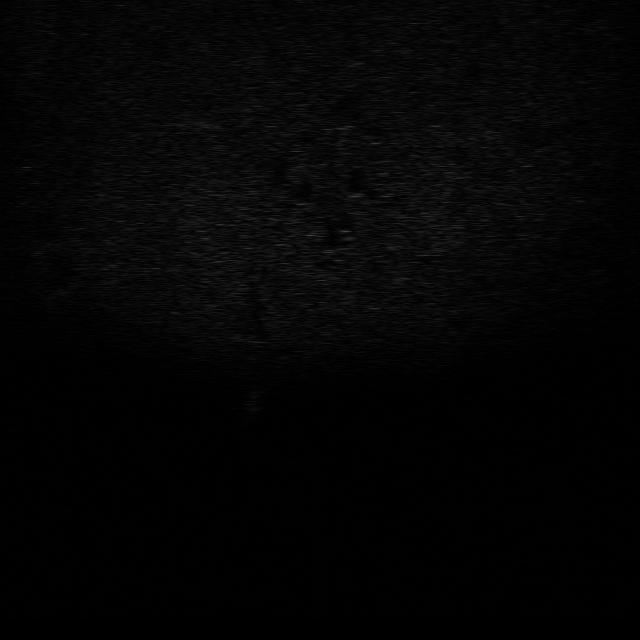human body: (240, 380, 271, 429)
